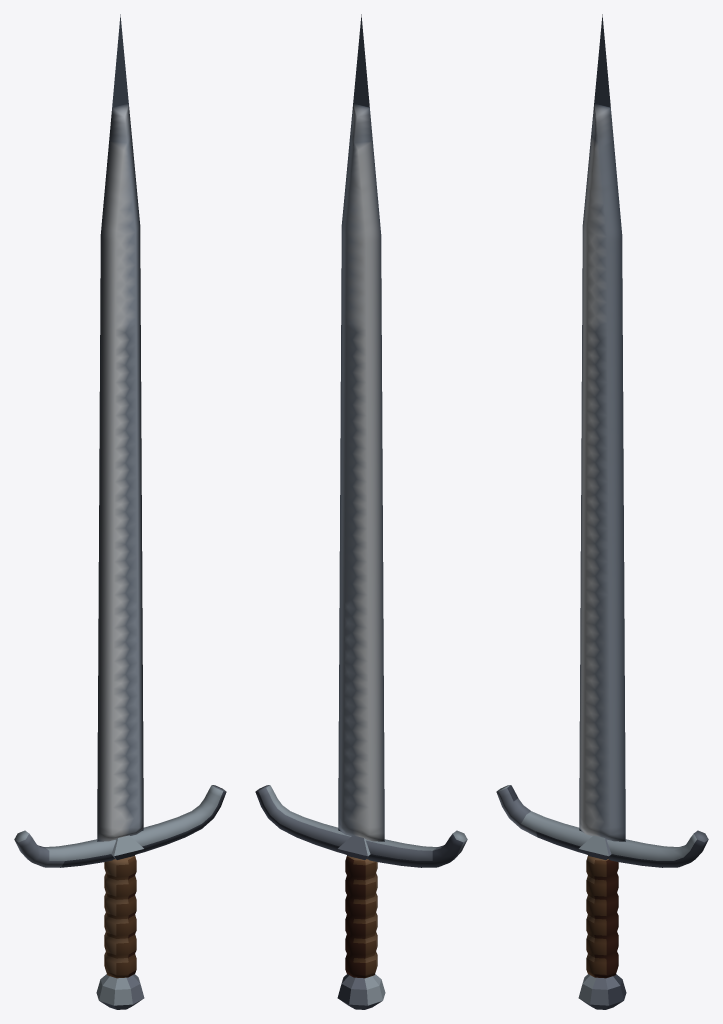
Rendered from w_iron_sword.glb.
The picture shows the model from 3 angles, left to right: view 1: azimuth 30°, elevation 25°; view 2: azimuth 150°, elevation 25°; view 3: azimuth 330°, elevation 25°; orthographic projection.
Visible parts, largest first — view 1: Weapon; view 2: Weapon; view 3: Weapon.
Part boxes in pixels (x1,y1,x2,y2): Weapon: [14, 14, 226, 1009]; Weapon: [255, 14, 467, 1009]; Weapon: [496, 14, 708, 1009].
Size of the model in its own units: 0.2321 by 1.05 by 0.048.
